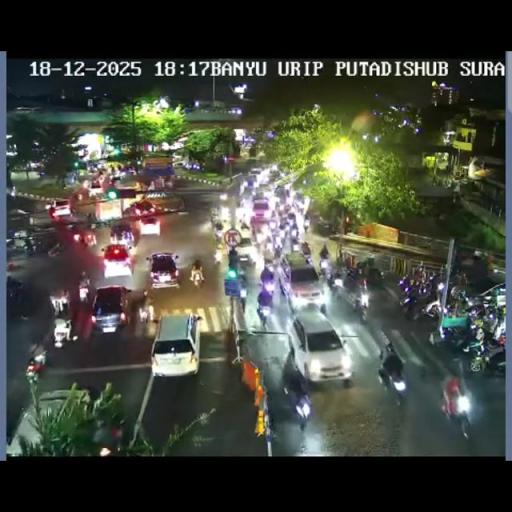Car: (7, 388, 97, 458), (288, 306, 350, 382), (150, 314, 200, 376), (282, 253, 320, 308), (90, 284, 132, 333), (147, 251, 180, 288), (102, 243, 134, 276), (232, 235, 258, 269), (110, 223, 135, 246), (130, 200, 157, 218), (138, 214, 161, 234), (48, 200, 71, 218), (252, 197, 270, 219), (117, 165, 137, 177), (88, 182, 104, 195), (248, 168, 262, 182), (172, 159, 187, 167)
Motorcycle: (441, 376, 471, 436), (434, 317, 478, 357), (377, 350, 408, 406), (422, 284, 464, 322), (289, 386, 313, 428), (478, 342, 506, 377), (91, 418, 119, 452), (257, 278, 274, 322), (372, 326, 394, 360), (52, 317, 74, 346), (352, 286, 369, 322), (234, 270, 248, 312), (402, 292, 422, 321), (25, 352, 45, 381), (342, 266, 362, 294), (463, 300, 487, 322), (413, 274, 433, 300), (490, 308, 506, 340), (365, 266, 386, 290), (398, 273, 416, 297), (6, 275, 22, 300), (67, 224, 84, 246), (50, 294, 68, 314), (46, 240, 66, 258), (330, 267, 344, 290), (190, 268, 204, 290), (452, 270, 467, 290), (78, 279, 90, 302), (318, 253, 330, 274), (218, 204, 232, 222), (272, 234, 284, 254), (358, 256, 370, 276), (82, 230, 96, 247), (138, 303, 148, 324), (290, 230, 300, 250), (213, 244, 223, 264), (23, 242, 37, 256), (278, 217, 288, 236), (238, 179, 248, 196), (239, 218, 250, 232), (214, 227, 223, 244), (302, 216, 310, 232), (304, 252, 313, 266), (86, 212, 94, 224)
